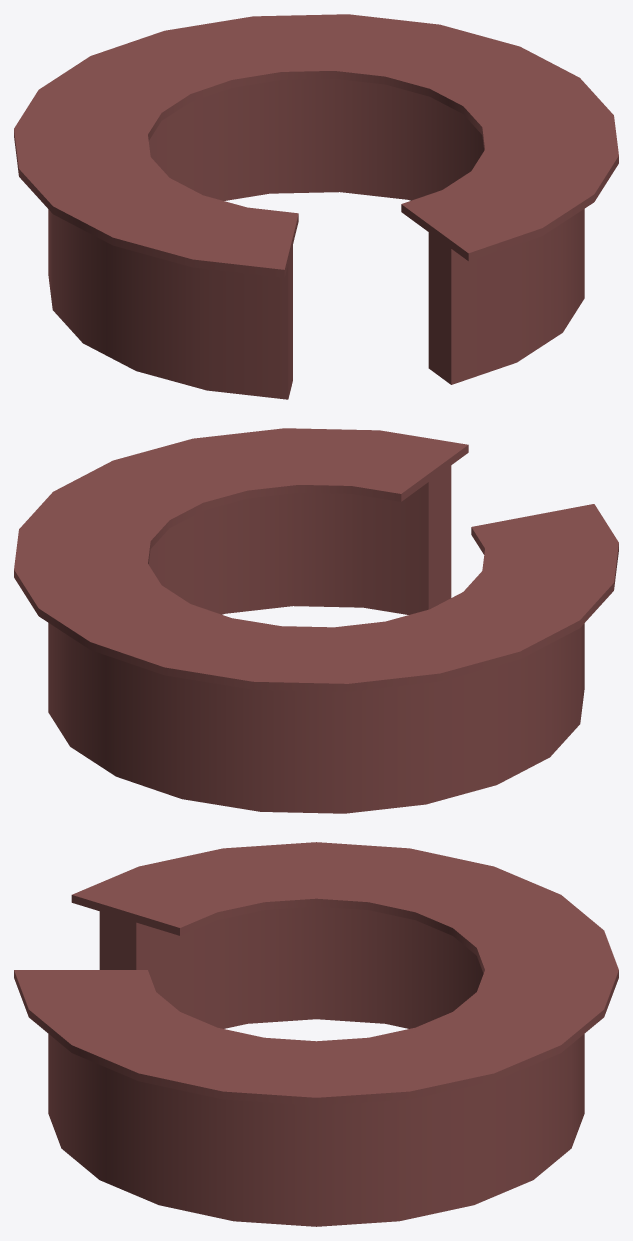
Rendered from Bureau.fbx.
3 renders of one model, top to bottom at view 1: azimuth 30°, elevation 25°; view 2: azimuth 150°, elevation 25°; view 3: azimuth 270°, elevation 25°, orthographic.
Visible parts, largest first — view 1: Cylinder; view 2: Cylinder; view 3: Cylinder.
Part boxes in pixels (left/top/right/bottom): Cylinder: left=14, top=14, right=618, bottom=399; Cylinder: left=14, top=428, right=618, bottom=813; Cylinder: left=14, top=842, right=618, bottom=1226.
Size of the model in its own units: 245 by 64.01 by 245.
